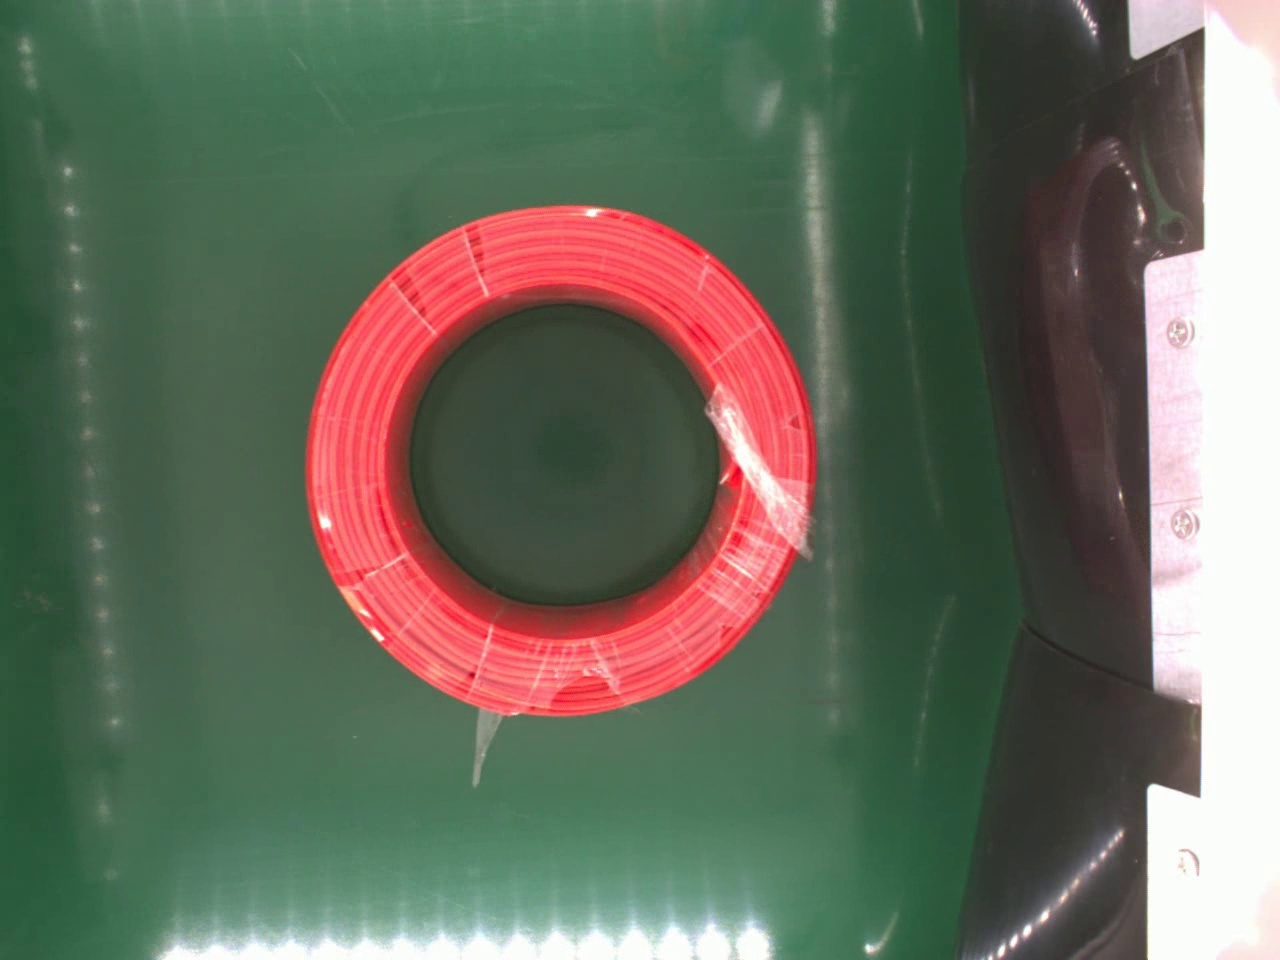red: (302, 204, 815, 716)
